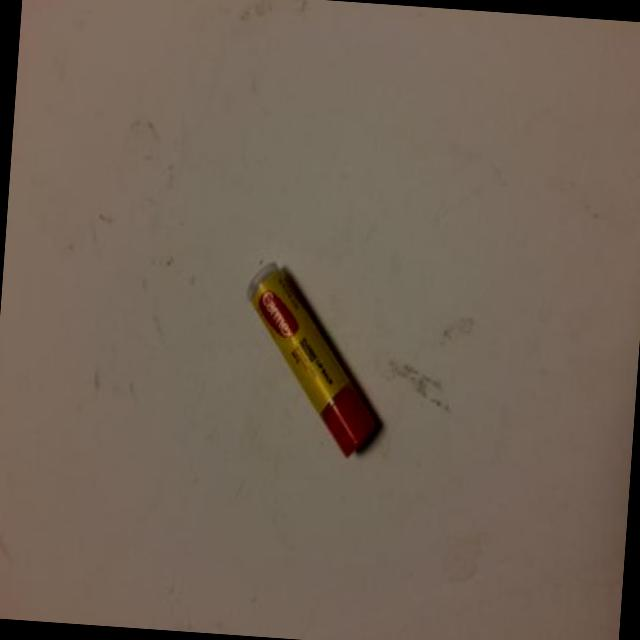Trash: (234, 250, 390, 460)
